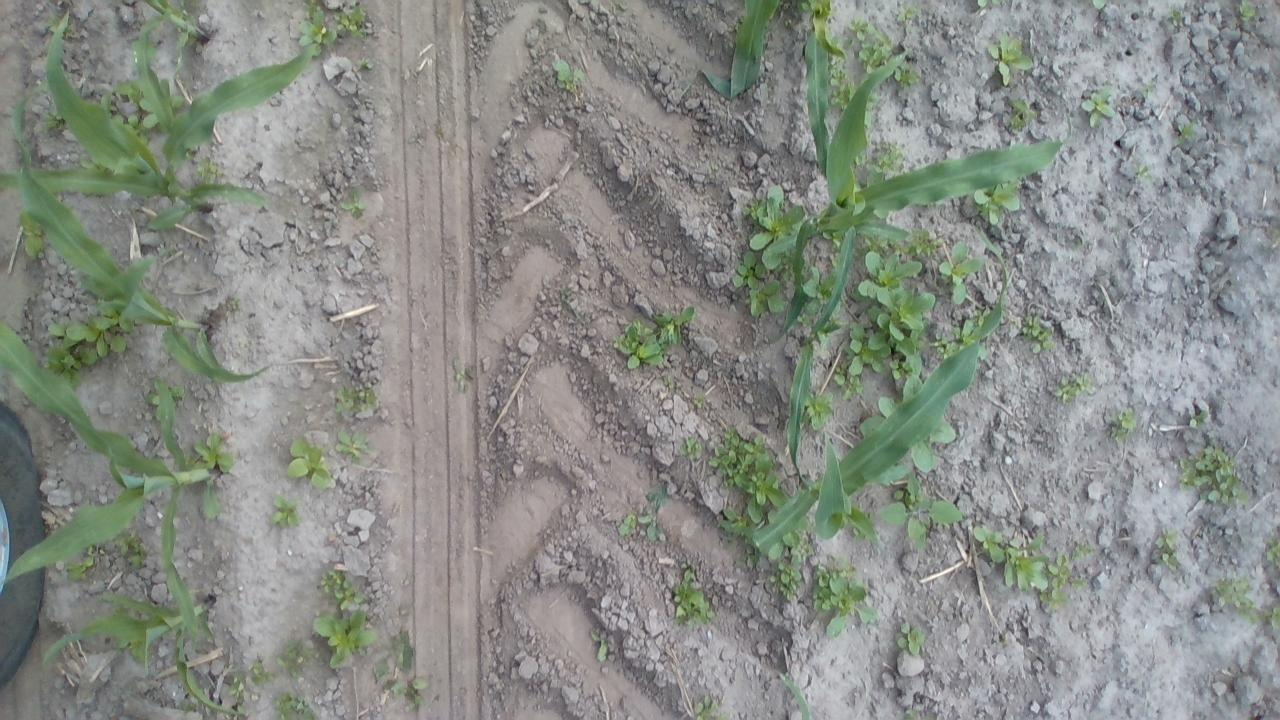Maize: (768, 20, 1072, 337), (719, 275, 1016, 558), (6, 80, 278, 384), (0, 8, 323, 238), (0, 318, 224, 640), (34, 587, 247, 719), (784, 221, 858, 486), (130, 0, 214, 128), (698, 0, 781, 101), (796, 0, 852, 59), (768, 670, 810, 720)
Weeds: (856, 375, 958, 494), (847, 250, 938, 378), (706, 420, 790, 522), (874, 470, 966, 552), (38, 304, 128, 383), (737, 180, 806, 274), (969, 521, 1051, 599), (804, 558, 879, 642), (610, 302, 696, 374), (1174, 438, 1252, 512), (307, 607, 379, 677), (1036, 540, 1096, 620), (371, 628, 428, 708), (729, 252, 790, 322), (666, 556, 720, 628), (935, 235, 982, 311), (987, 27, 1036, 86), (285, 436, 334, 488), (639, 479, 677, 546), (294, 0, 336, 57), (970, 184, 1022, 228), (316, 568, 364, 610), (858, 142, 901, 187), (144, 375, 186, 420), (1206, 572, 1256, 609), (801, 265, 835, 319), (1080, 82, 1116, 132), (852, 26, 894, 68), (799, 391, 838, 436), (190, 432, 233, 472), (930, 318, 975, 356), (334, 428, 376, 468), (1047, 372, 1094, 407), (16, 209, 46, 263), (272, 688, 321, 720), (1153, 518, 1181, 573), (276, 634, 310, 678), (334, 381, 378, 415), (1003, 95, 1042, 133), (114, 526, 148, 568), (266, 494, 302, 533), (550, 55, 586, 93), (1018, 313, 1052, 352), (906, 224, 942, 258), (334, 5, 368, 40), (1103, 406, 1135, 443), (770, 562, 799, 602), (832, 364, 862, 402), (448, 352, 476, 392), (1236, 603, 1280, 628), (895, 620, 925, 656), (246, 652, 276, 688), (337, 187, 369, 220), (854, 238, 900, 260), (588, 627, 613, 666), (691, 695, 730, 720), (63, 557, 97, 585), (1183, 406, 1212, 433), (847, 18, 877, 44), (830, 55, 852, 90), (892, 58, 919, 86), (194, 154, 223, 180), (676, 432, 700, 460), (114, 75, 140, 100), (1264, 538, 1280, 574), (832, 82, 851, 112), (1236, 0, 1260, 23), (126, 642, 148, 667), (1172, 121, 1196, 142), (890, 4, 916, 23), (1132, 159, 1154, 180), (658, 373, 678, 396), (227, 674, 246, 698), (617, 514, 635, 537), (1168, 10, 1188, 30), (1140, 79, 1158, 99), (180, 696, 196, 714), (689, 394, 705, 411), (1091, 0, 1110, 14), (974, 0, 1002, 8), (229, 298, 243, 313), (358, 58, 374, 70), (434, 124, 446, 139), (902, 708, 918, 719), (404, 134, 418, 146)
